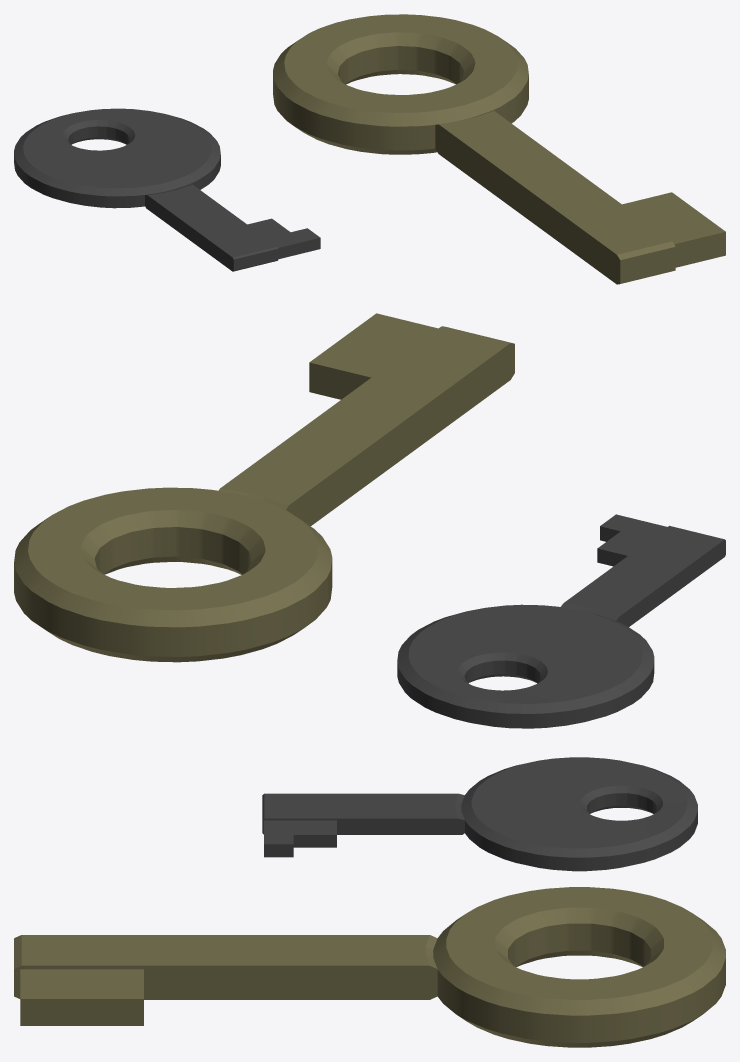
File: keys.fbx
3 views of the same model, one above another, from view 1: azimuth 30°, elevation 25°; view 2: azimuth 150°, elevation 25°; view 3: azimuth 270°, elevation 25° (orthographic). The views are drawn at different scales.
Parts seen in each view (by area): view 1: tom_key, box_key; view 2: tom_key, box_key; view 3: tom_key, box_key.
Boxes of the visible parts, x1,y1,x2,y2 form: tom_key: (273,14,725,284); box_key: (14,108,320,271); tom_key: (14,313,514,662); box_key: (397,514,725,728); tom_key: (14,887,725,1047); box_key: (262,757,697,871).
Size of the model in its own units: 4.33 by 0.3573 by 4.82.
